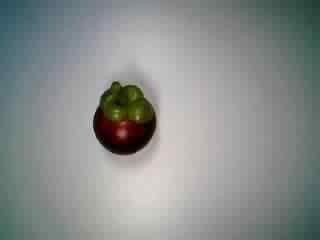mangosteen: (85, 78, 158, 158)
